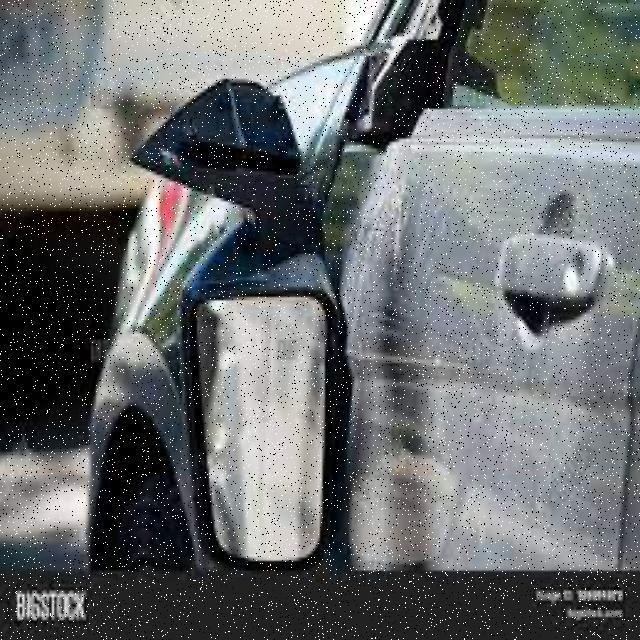Sidemirror-Damage: (138, 49, 340, 570)
